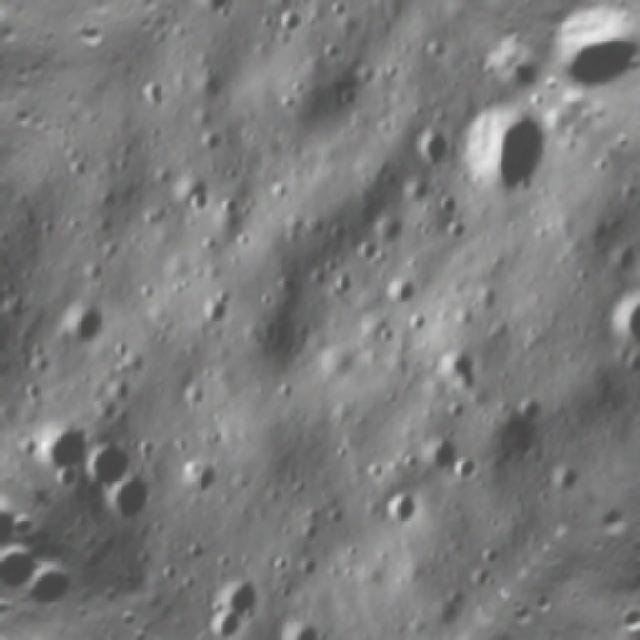crater: (435, 80, 587, 231), (180, 549, 282, 640), (20, 403, 108, 491), (418, 328, 498, 406), (68, 425, 146, 503), (396, 112, 470, 188), (591, 259, 640, 359), (51, 286, 120, 356), (97, 466, 165, 536), (365, 475, 430, 540), (372, 258, 431, 317), (102, 333, 160, 392), (125, 68, 180, 123), (171, 450, 226, 505), (172, 170, 226, 224), (502, 383, 556, 435), (264, 600, 334, 640), (539, 452, 590, 503), (443, 442, 492, 493), (264, 0, 314, 46), (170, 368, 218, 415), (188, 118, 234, 164), (286, 505, 331, 550), (291, 546, 331, 586), (186, 0, 249, 22), (632, 343, 640, 403)
